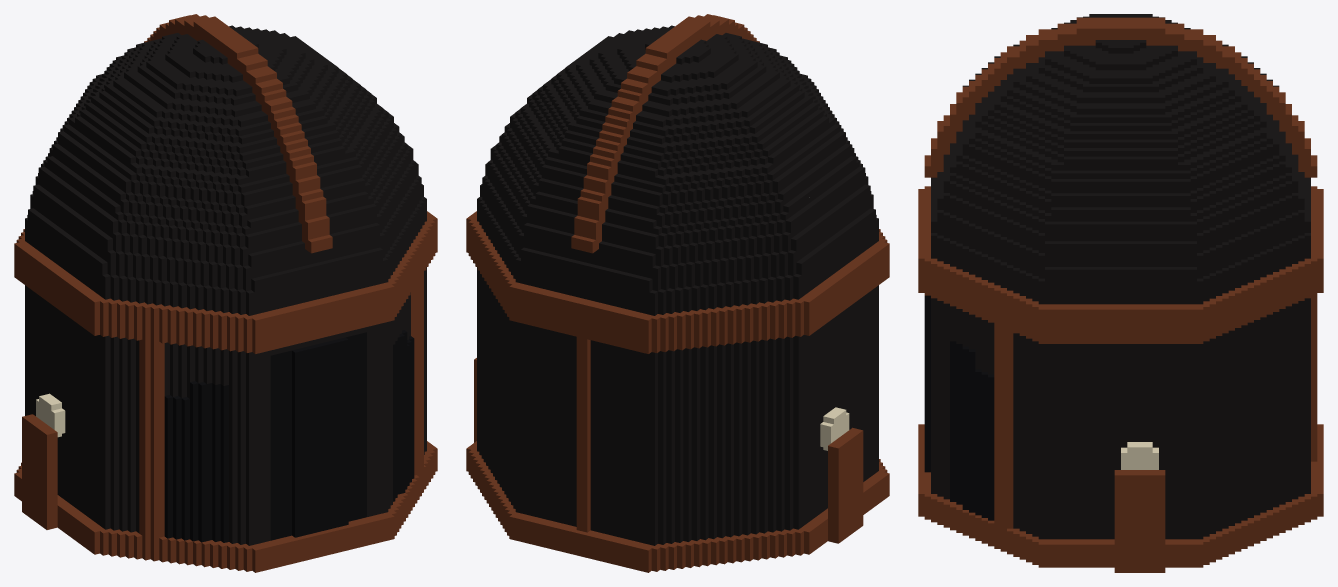
Rendered from helmet_xlblack_dragon_hide.glb.
The picture shows the model from 3 angles, left to right: view 1: azimuth 30°, elevation 25°; view 2: azimuth 150°, elevation 25°; view 3: azimuth 270°, elevation 25°; orthographic projection. The views are drawn at different scales.
Parts seen in each view (by area): view 1: helmet_xlblack_dragon_hide:compound; view 2: helmet_xlblack_dragon_hide:compound; view 3: helmet_xlblack_dragon_hide:compound.
Boxes of the visible parts, x1=… form: helmet_xlblack_dragon_hide:compound: x1=14, y1=14, x2=437, y2=572; helmet_xlblack_dragon_hide:compound: x1=466, y1=14, x2=889, y2=572; helmet_xlblack_dragon_hide:compound: x1=918, y1=14, x2=1323, y2=572.
Bounding box in the file's own units: 0.272 × 0.32 × 0.256.
